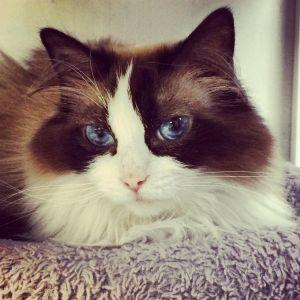ragdoll: (38, 3, 239, 219)
